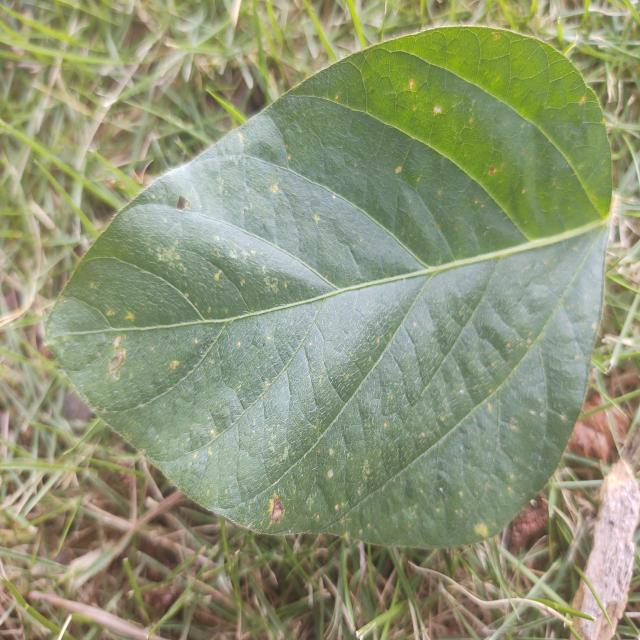Soybean: (45, 25, 615, 553)
downey_mildew: (321, 426, 394, 528), (261, 484, 291, 529), (108, 346, 126, 376), (264, 276, 280, 294), (628, 522, 638, 549), (176, 195, 191, 211), (475, 523, 489, 538), (113, 335, 122, 349), (169, 360, 180, 371), (124, 311, 135, 322), (88, 281, 99, 290), (214, 269, 222, 281), (270, 184, 279, 194), (105, 308, 115, 317), (235, 384, 243, 395), (433, 106, 442, 115), (488, 166, 496, 176), (313, 213, 320, 223), (408, 79, 414, 90), (394, 166, 402, 174), (328, 469, 334, 479), (579, 95, 586, 103), (213, 250, 220, 258), (591, 322, 598, 330), (210, 428, 216, 437), (510, 424, 517, 431), (493, 33, 500, 40), (487, 403, 492, 412), (238, 133, 243, 142), (500, 163, 506, 170), (250, 249, 256, 256), (440, 415, 446, 422), (214, 235, 220, 242), (458, 491, 464, 498), (435, 507, 441, 514), (193, 452, 198, 460), (240, 278, 245, 286), (329, 448, 334, 456), (208, 448, 212, 457), (521, 188, 527, 194), (318, 377, 322, 386), (266, 335, 272, 341), (530, 410, 536, 416), (439, 487, 445, 493), (459, 388, 465, 394), (345, 373, 350, 380), (194, 338, 199, 345), (334, 504, 339, 511), (416, 177, 421, 183), (468, 117, 473, 123), (383, 422, 388, 428), (488, 389, 493, 395), (175, 254, 180, 260), (491, 362, 496, 368), (421, 432, 426, 438), (237, 341, 241, 348), (287, 154, 291, 161), (335, 93, 339, 100), (413, 321, 417, 328), (316, 514, 320, 521), (412, 106, 417, 111), (438, 190, 443, 195), (376, 338, 380, 344), (194, 301, 198, 307), (359, 238, 363, 243), (317, 449, 321, 454), (474, 200, 478, 204), (332, 195, 336, 199), (325, 274, 328, 279)
